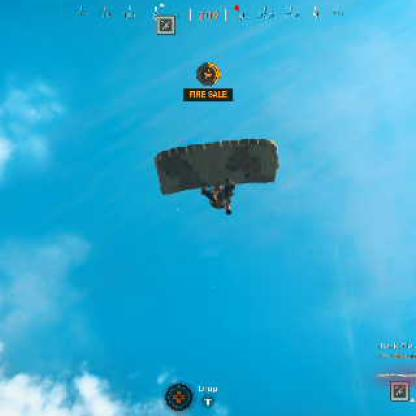enemy: (208, 179, 235, 212)
